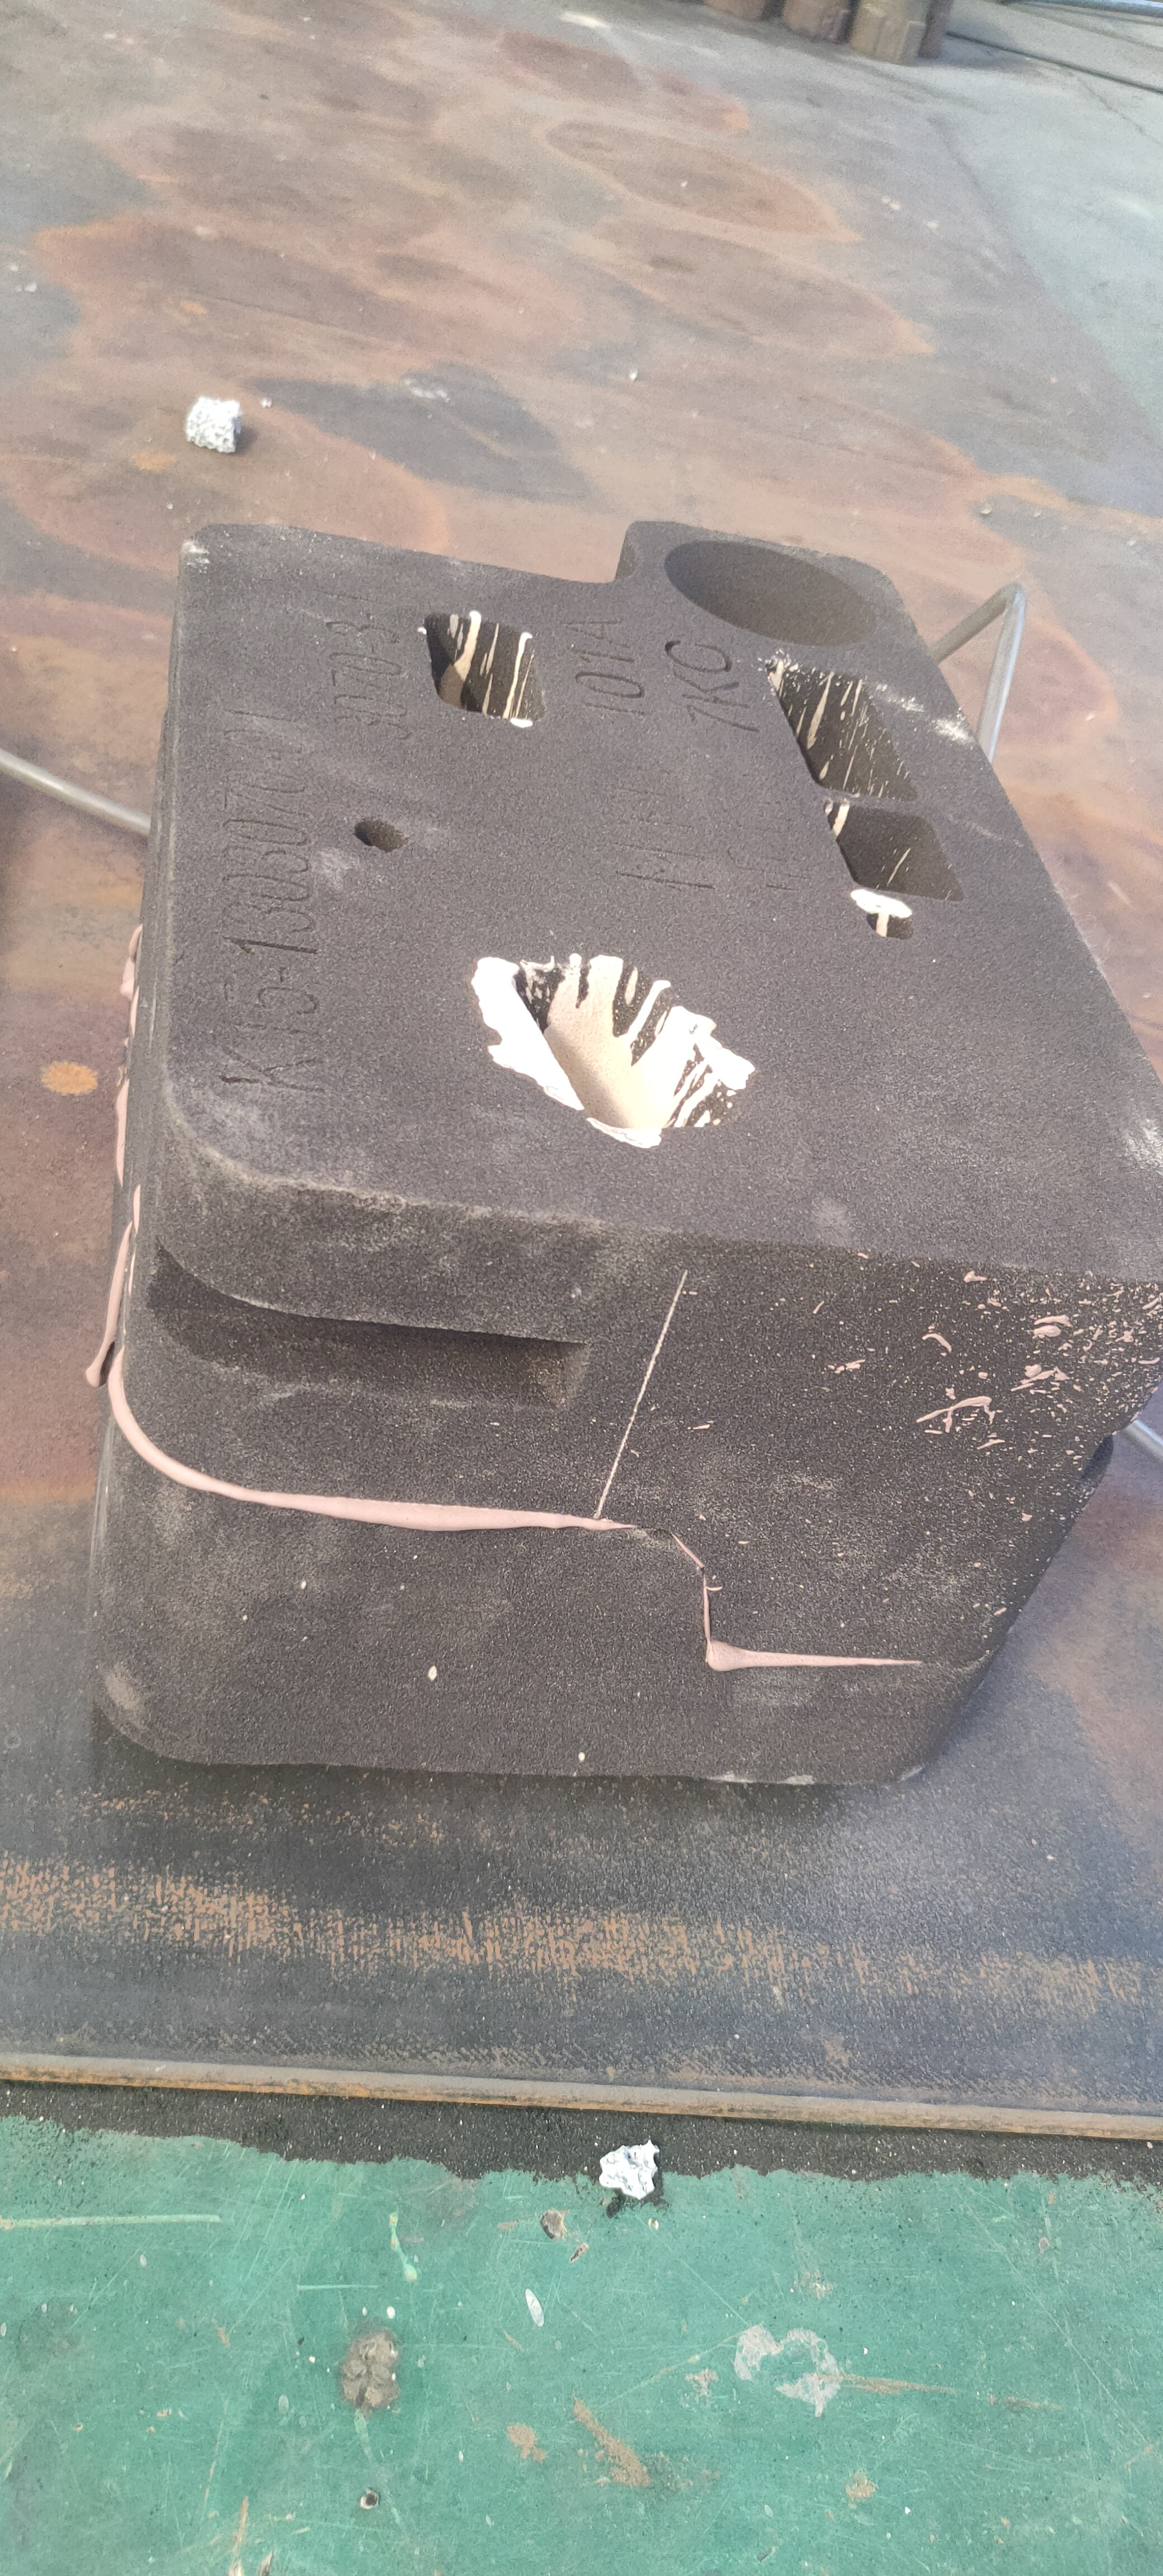pouring hole: (664, 539, 877, 647)
